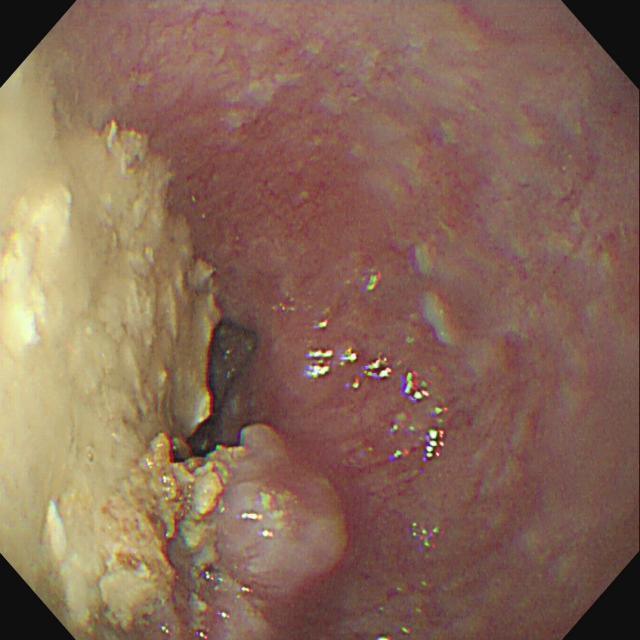B: (2, 55, 234, 640), (230, 422, 351, 604)
U: (305, 349, 359, 383), (424, 407, 448, 465), (411, 524, 444, 552), (364, 356, 395, 382), (404, 371, 429, 403), (366, 272, 385, 293)
